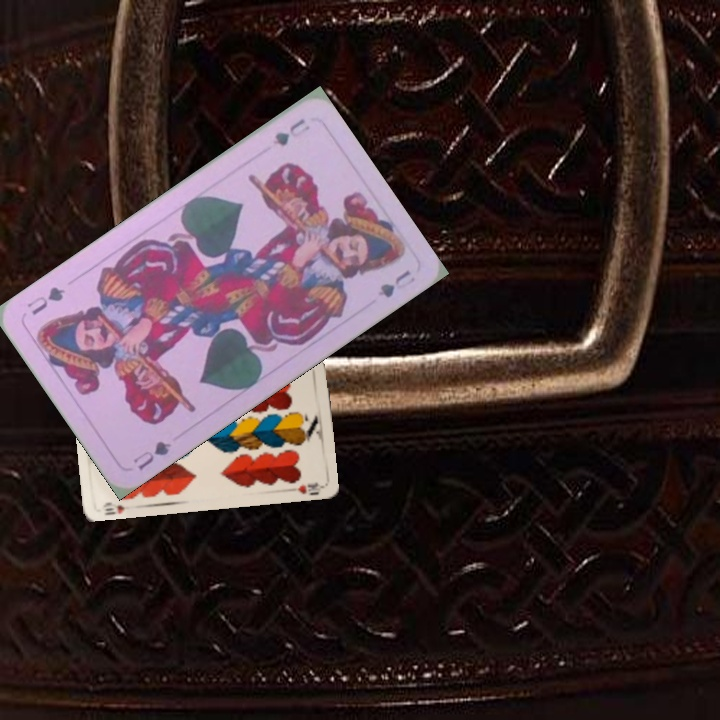GU: (129, 436, 174, 473), (268, 114, 313, 149)
H10: (99, 498, 127, 517)
